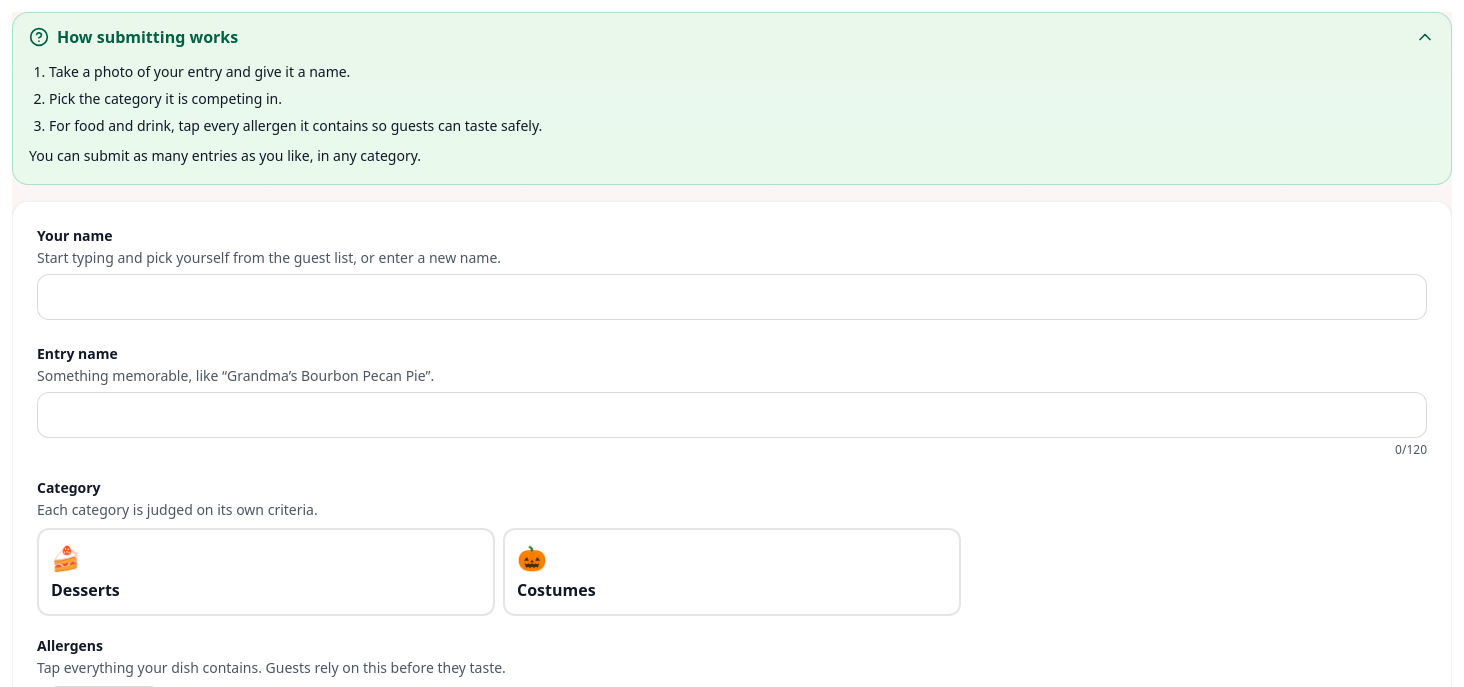
Test case: SubmitPage › offers allergens once a food category is picked, and not for costumes
This screenshot has width=1464, height=687.
Click the button "🎃 Costumes": [556, 590] box [503,528,961,616]
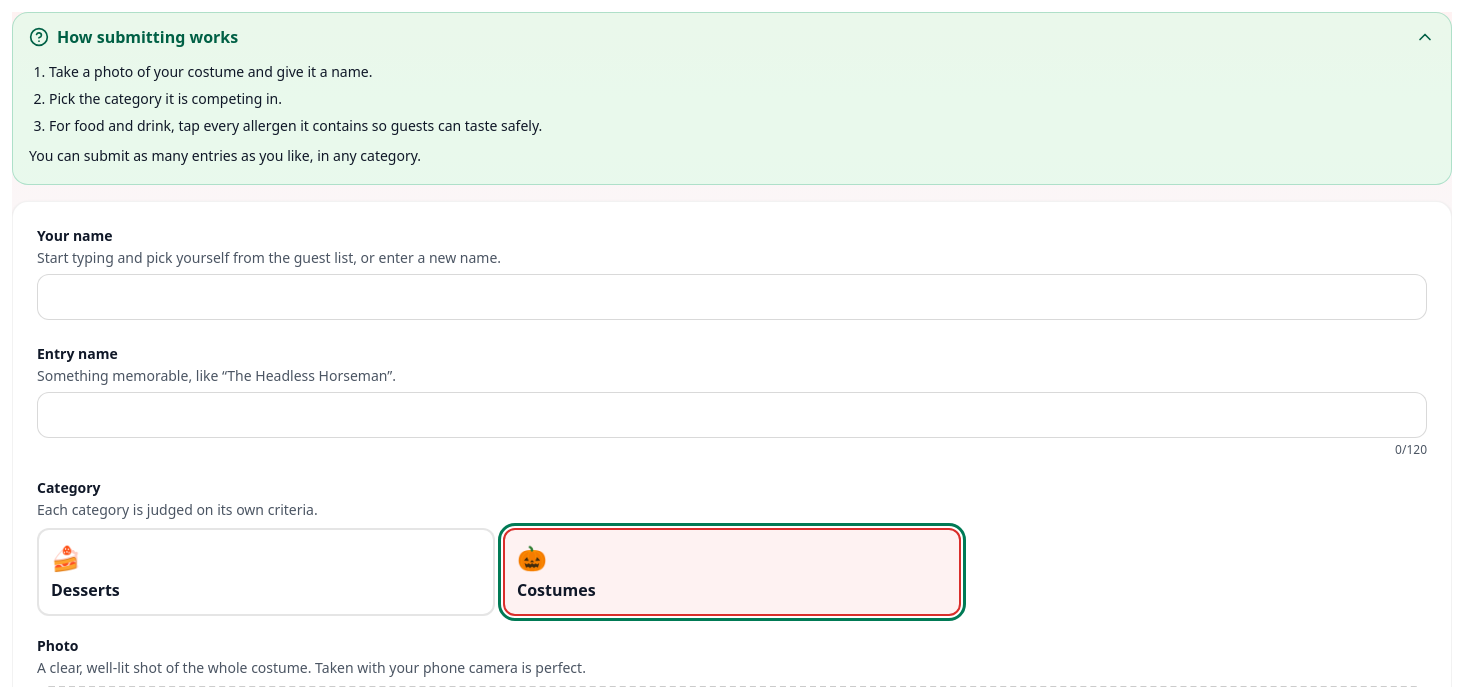
Expected: the text "Tap everything your dish contains" is gone
Click the button "🍰 Desserts": [85, 590] box [37,528,495,616]
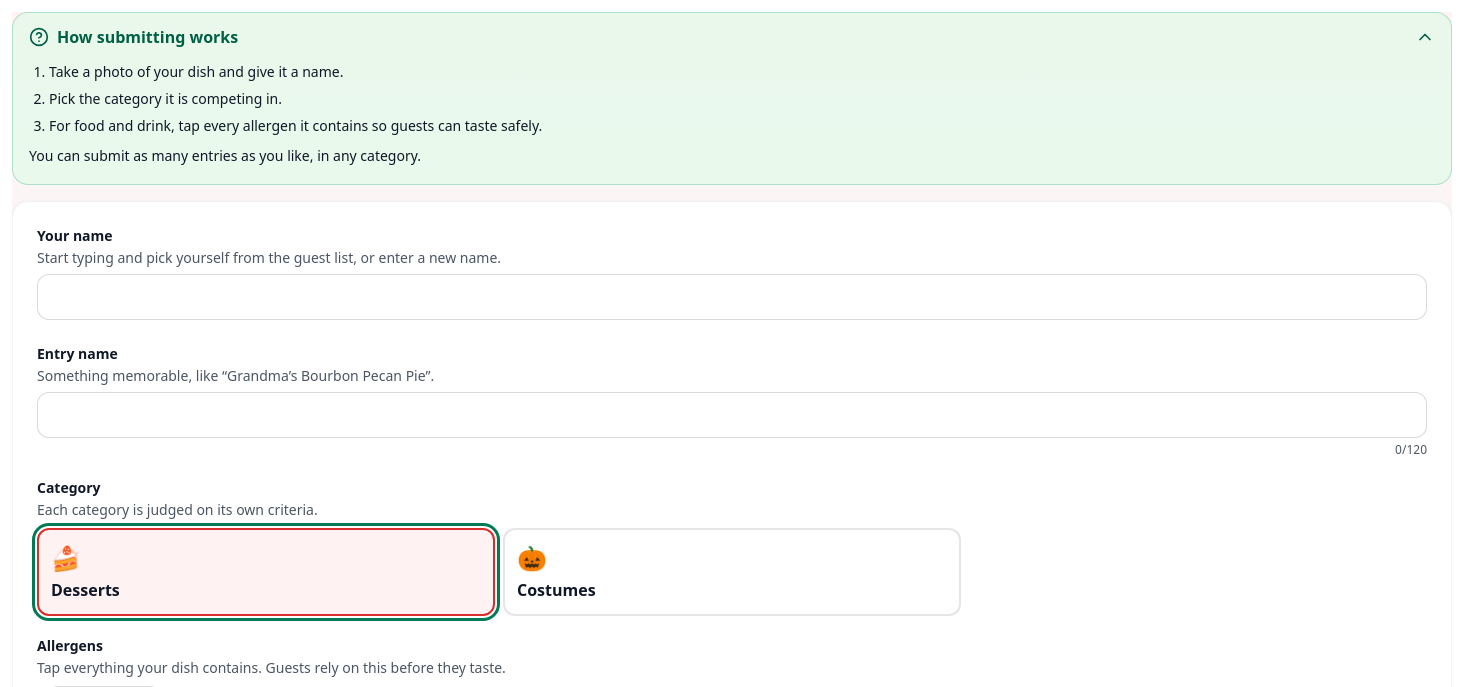
Expected: the text "Tap everything your dish contains" is shown, [37,658,506,677]
